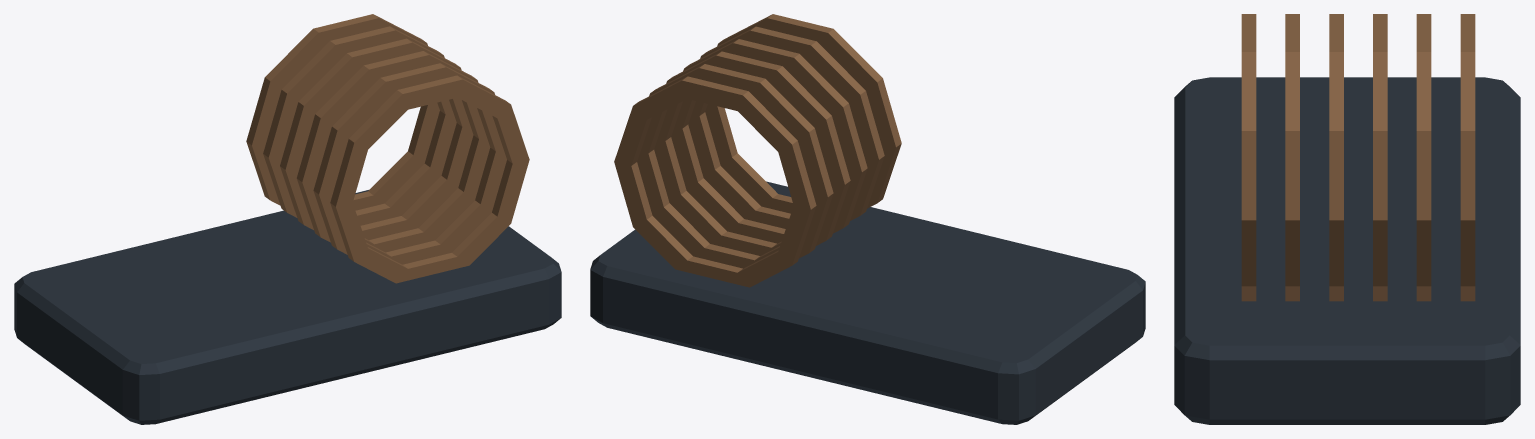
File: L-26_solder_rest.glb
3 renders of one model, left to right at view 1: azimuth 30°, elevation 25°; view 2: azimuth 150°, elevation 25°; view 3: azimuth 270°, elevation 25°, orthographic. The views are drawn at different scales.
Visible parts, largest first — view 1: L-26_solder_rest; view 2: L-26_solder_rest; view 3: L-26_solder_rest.
Boxes of the visible parts, bbox=[...] form: L-26_solder_rest: bbox=[14, 14, 561, 424]; L-26_solder_rest: bbox=[590, 14, 1145, 424]; L-26_solder_rest: bbox=[1174, 14, 1520, 424].
Size of the model in its own units: 0.18 by 0.098 by 0.095.
